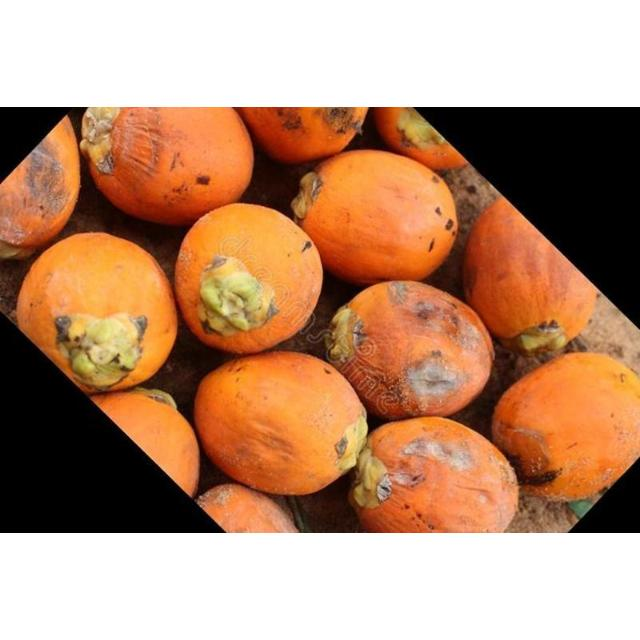good: (20, 232, 178, 392), (195, 353, 365, 495), (328, 282, 494, 420), (174, 204, 320, 354), (295, 150, 455, 284), (462, 198, 594, 352), (494, 356, 636, 498), (85, 108, 251, 226), (355, 421, 517, 531), (92, 389, 196, 496), (1, 118, 80, 258), (230, 108, 370, 164), (376, 108, 464, 172), (84, 142, 110, 198), (348, 108, 370, 136)
